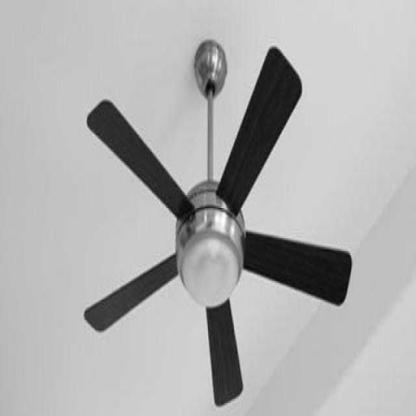ceiling-fan: (81, 45, 352, 406)
